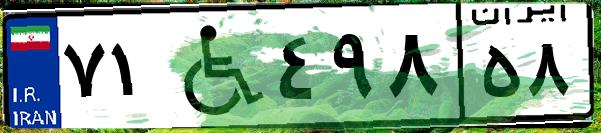1: (110, 28, 158, 98)
4: (270, 28, 330, 110)
5: (475, 38, 525, 113)
7: (57, 26, 110, 100)
8: (385, 28, 445, 110), (525, 38, 570, 115)
9: (330, 28, 385, 110)
ژ (معلولین و جانبازان): (158, 12, 270, 120)
